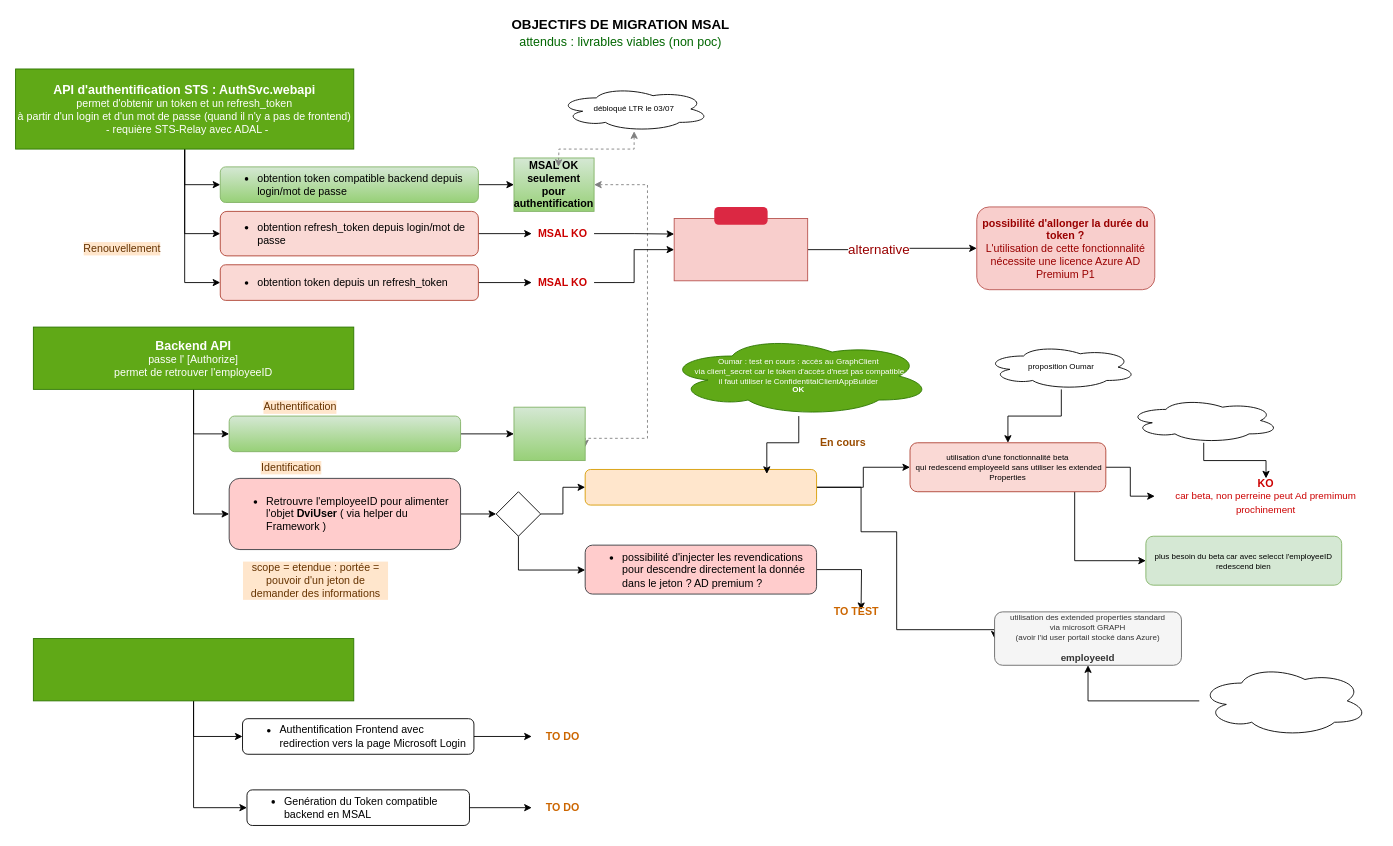
This 1393x846 diagram has some shape labels left out. Each missing label, with the centre of its shape:
"Danger" goes at (x=740, y=215).
"fonctionne en Authorize avec un token généré par l'API d'authentification" goes at (x=344, y=433).
"FrontEnd Authentiication MSAL du front Generation du Token Backend en MSAL" goes at (x=193, y=669).
"LTR" goes at (x=1203, y=420).
"MSAL OK" goes at (x=549, y=433).
"ou" goes at (x=518, y=513).
"OUmar : obsolète : plus besoin" goes at (x=1283, y=700).
"Remplacement du mecanisme de renouvellement par la master" goes at (x=740, y=249).
"Retrouvre l'employeeID via Microsoft Graph (au lieu de Azure Graph )" goes at (x=700, y=487).
